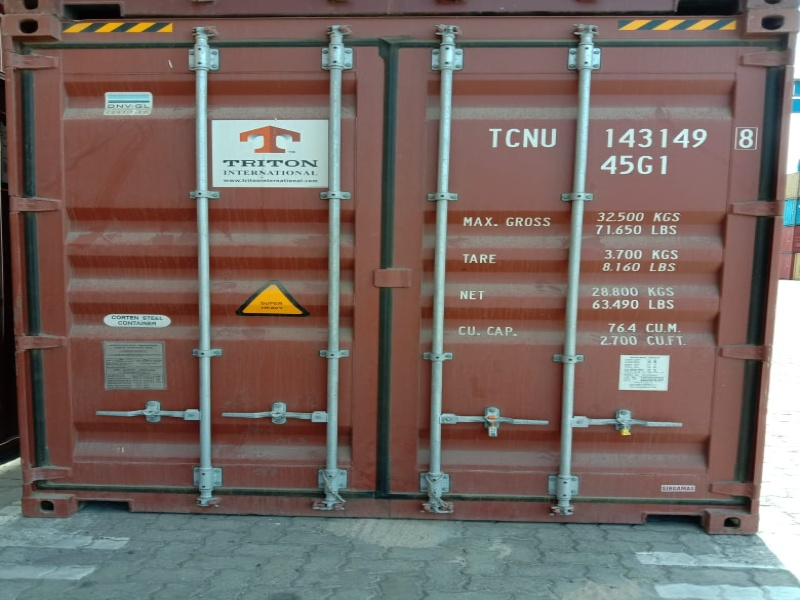iso: (600, 153, 673, 179)
mgw: (454, 209, 689, 238)
serial: (487, 119, 763, 154)
